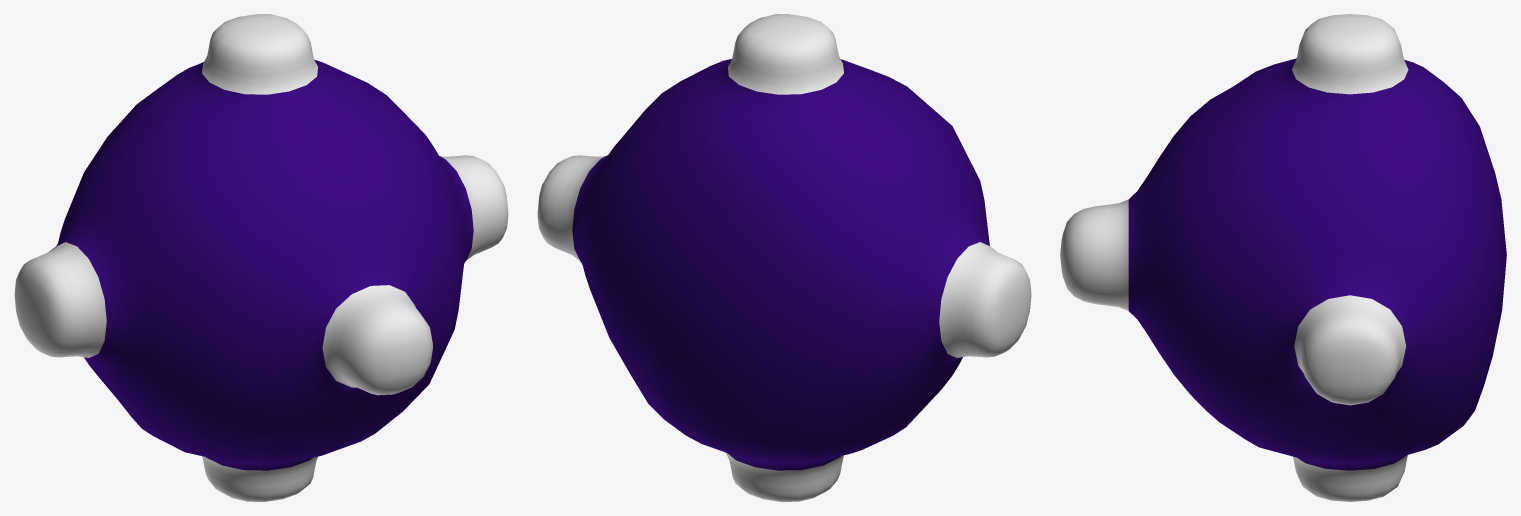
The model's file is PunkleBerryFruit.fbx.
3 renders of one model, left to right at view 1: azimuth 30°, elevation 25°; view 2: azimuth 150°, elevation 25°; view 3: azimuth 270°, elevation 25°, orthographic.
Visible parts, largest first — view 1: Cube.006; view 2: Cube.006; view 3: Cube.006.
Boxes of the visible parts, left/top/right/bottom form: Cube.006: left=14, top=14, right=508, bottom=501; Cube.006: left=537, top=14, right=1031, bottom=501; Cube.006: left=1060, top=14, right=1506, bottom=501.
Size of the model in its own units: 2.94 by 2.79 by 2.43.
